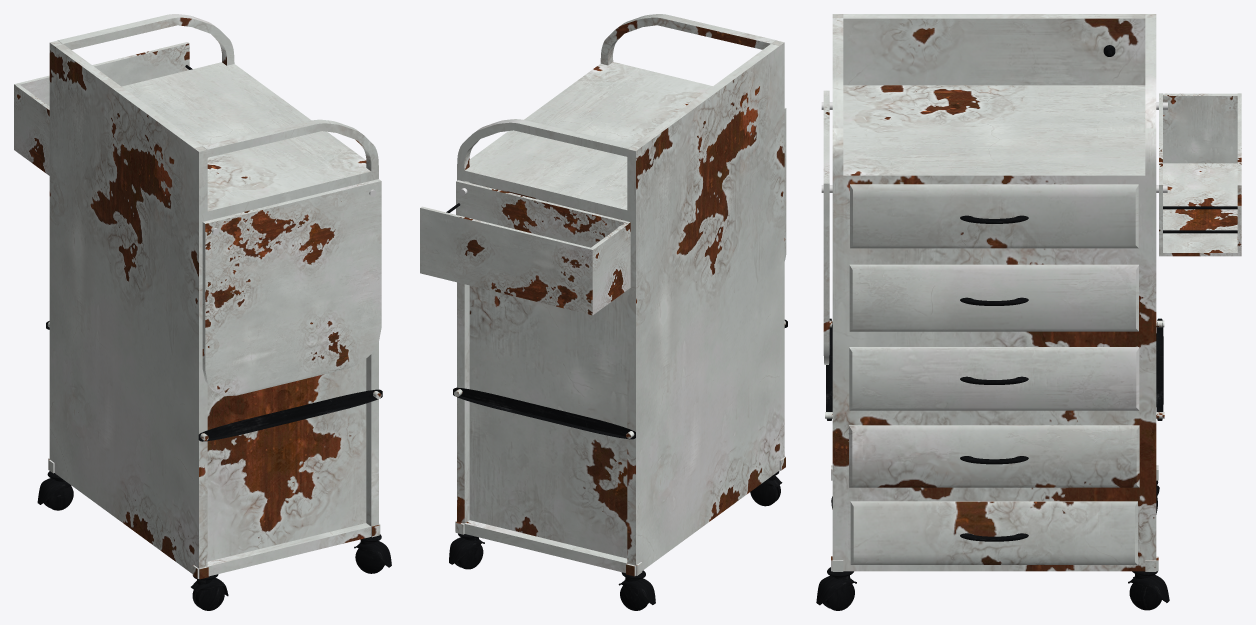
Rendered from medicaldrawer.fbx.
3 views of the same model, side by side, from view 1: azimuth 30°, elevation 25°; view 2: azimuth 150°, elevation 25°; view 3: azimuth 270°, elevation 25° (orthographic). The views are drawn at different scales.
Visible parts, largest first — view 1: Cube, Cube.003, Cube.004, Cube.001, Cylinder.018; view 2: Cube, Cube.004, Cube.002, Cylinder.018, Plane.004; view 3: Cube, Cube.004, Torus.004, Cube.003, Cylinder.018, Cube.002, Cylinder.022, Plane.
Part boxes in pixels (left/top/right/bottom): Cube: left=48, top=14, right=380, bottom=579; Cube.003: left=202, top=179, right=381, bottom=396; Cube.004: left=14, top=42, right=189, bottom=175; Cube.001: left=198, top=389, right=382, bottom=441; Cylinder.018: left=44, top=479, right=384, bottom=610; Cube: left=455, top=14, right=785, bottom=576; Cube.004: left=420, top=180, right=630, bottom=315; Cube.002: left=453, top=387, right=635, bottom=439; Cylinder.018: left=455, top=475, right=780, bottom=610; Plane.004: left=449, top=537, right=484, bottom=564; Cube: left=831, top=14, right=1158, bottom=571; Cube.004: left=1159, top=93, right=1241, bottom=256; Torus.004: left=960, top=215, right=1028, bottom=541; Cube.003: left=823, top=90, right=829, bottom=364; Cylinder.018: left=823, top=496, right=1161, bottom=610; Cube.002: left=1156, top=318, right=1163, bottom=420; Cylinder.022: left=1163, top=206, right=1237, bottom=233; Plane: left=816, top=576, right=856, bottom=605.
Bounding box in the file's own units: 490 × 1055 × 809.
15 materials, 15 textured.
